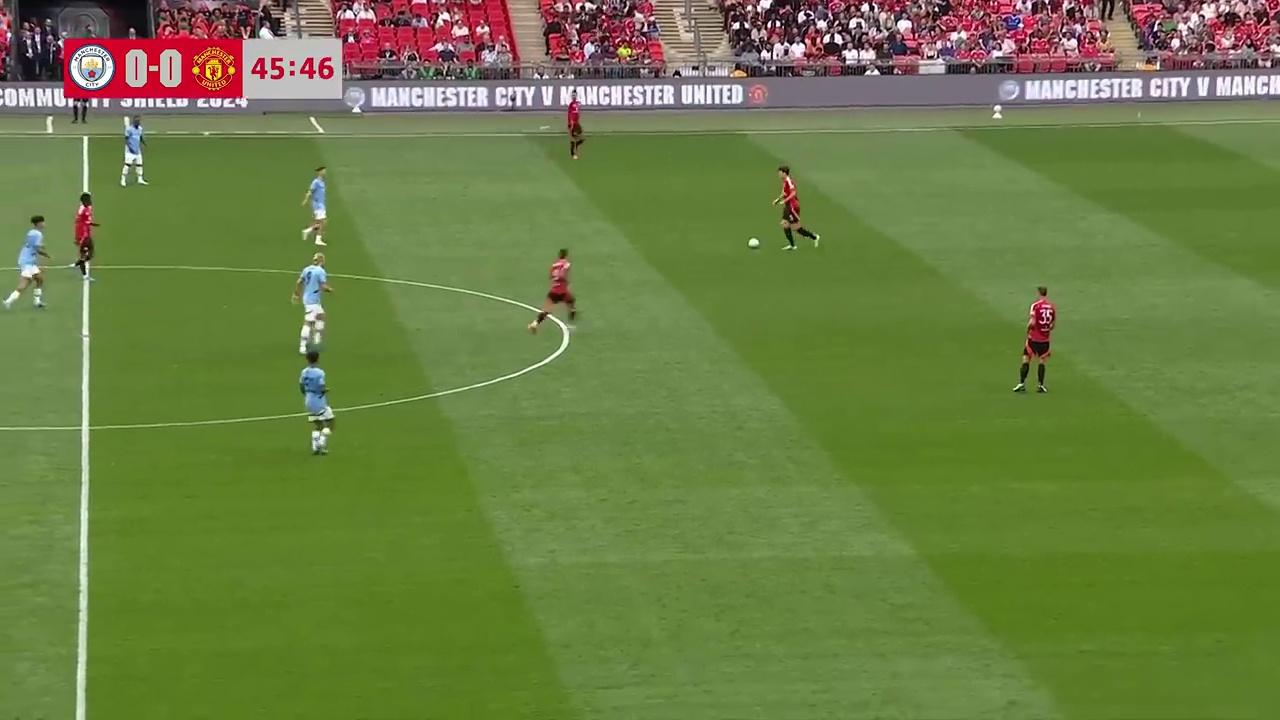ball: (745, 234, 760, 249)
player: (1011, 286, 1056, 395), (2, 216, 49, 312), (769, 163, 820, 251), (528, 248, 577, 334), (293, 251, 333, 352), (297, 351, 335, 455), (72, 193, 99, 281), (119, 115, 148, 187), (301, 166, 327, 246), (565, 99, 584, 159)
